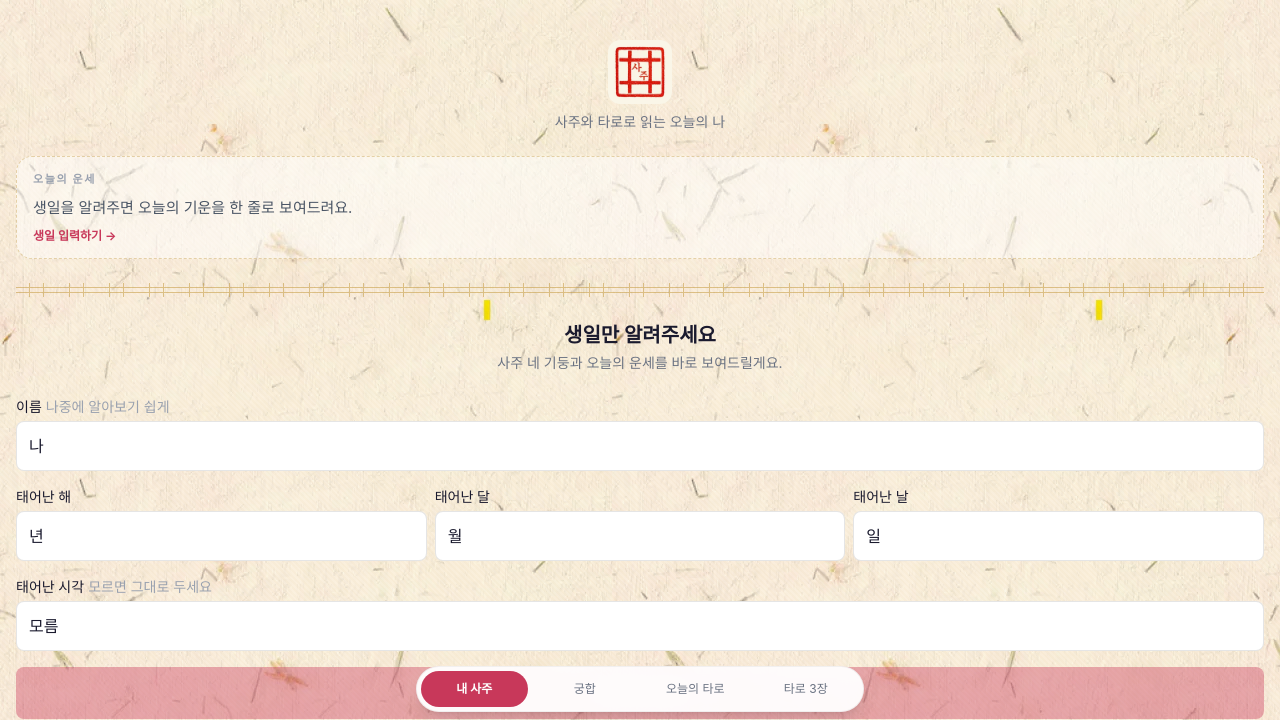
Test: 탭바로 화면을 전환하고, 전환은 history 에 쌓여 백버튼으로 되돌아온다
The image size is (1280, 720).
Expected: the heading "생일만 알려주세요" is shown, [564,323,716,347]
Click the button "궁합": click(585, 689) [532,671,638,707]
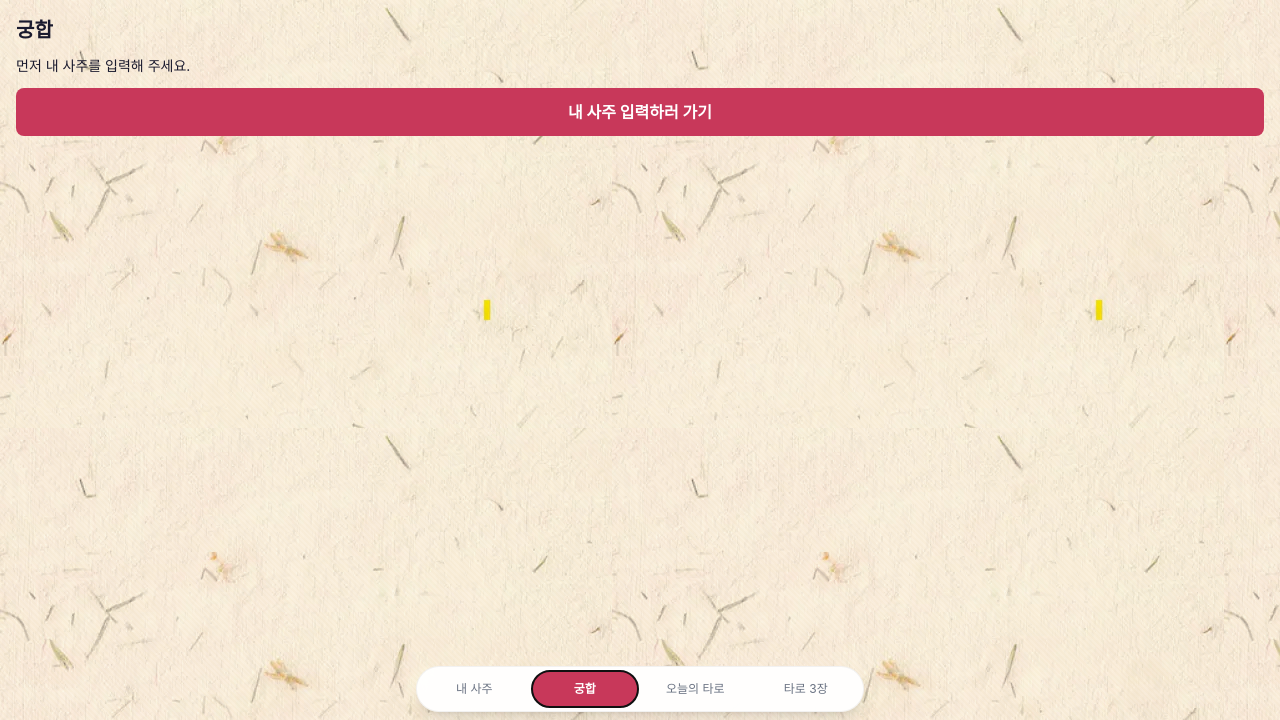
Expected: the heading "궁합" is shown, [16,18,53,42]
